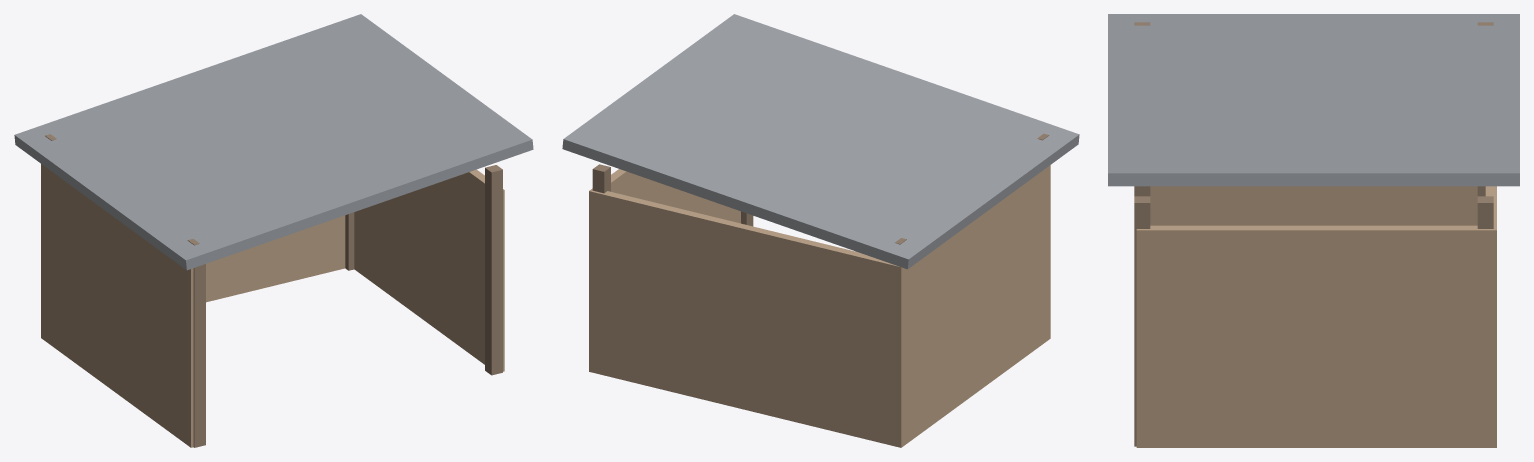
The model's file is field-shelter.glb.
3 views of the same model, side by side, from view 1: azimuth 30°, elevation 25°; view 2: azimuth 150°, elevation 25°; view 3: azimuth 270°, elevation 25° (orthographic). The views are drawn at different scales.
Parts seen in each view (by area): view 1: field-shelter; view 2: field-shelter; view 3: field-shelter.
Boxes of the visible parts, x1=… form: field-shelter: x1=14, y1=14, x2=533, y2=447; field-shelter: x1=562, y1=14, x2=1079, y2=447; field-shelter: x1=1108, y1=14, x2=1519, y2=447.
Bounding box in the file's own units: 4.21 × 2.74 × 3.6.
